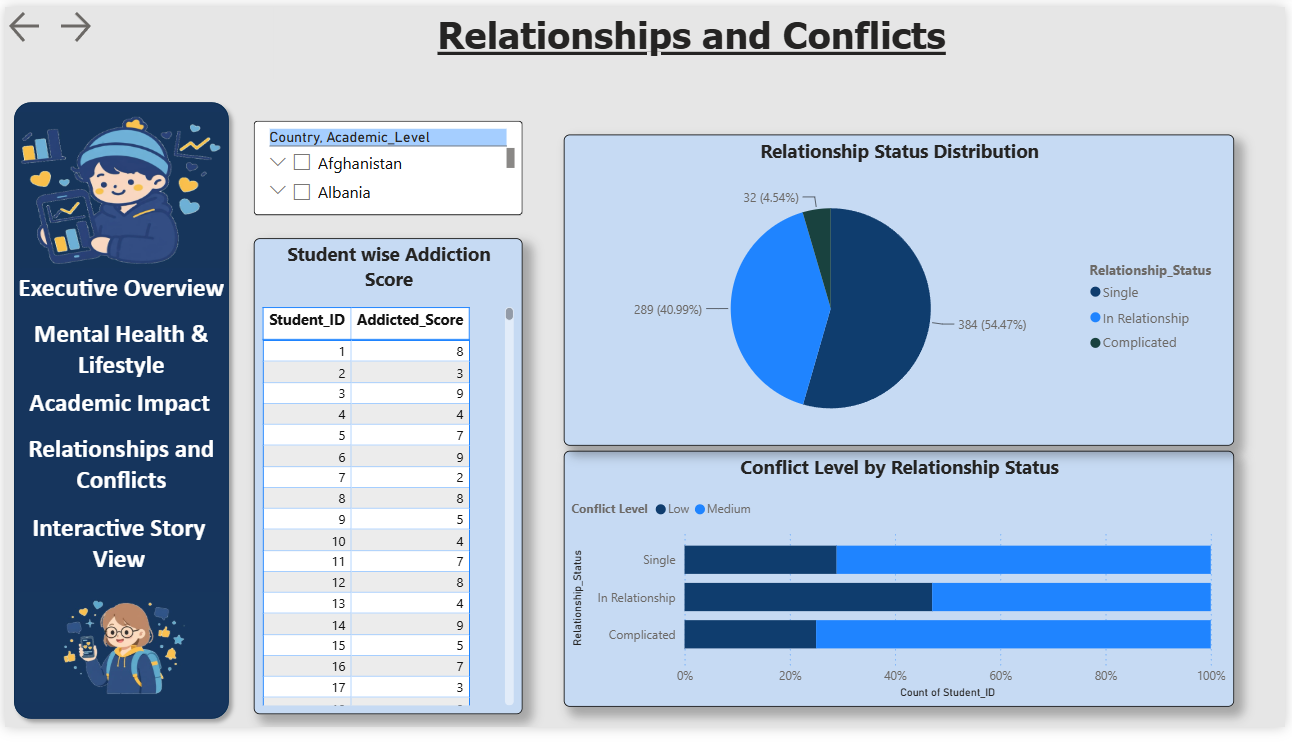

The dashboard page shown, as its layout file describes it:
{"tool":"powerbi","page":{"name":"Relationships and Conflicts","canvas":[1280,720],"ordinal":3},"visuals":[{"type":"textbox","box":[269.1,0,835.8,71.6],"z":0},{"type":"hundredPercentStackedBarChart","title":"Conflict Level by Relationship Status","fields":{"Category":["Student Details.Relationship_Status"],"Series":["Student Details.Conflict Level"],"Y":["CountNonNull(Student Details.Student_ID)"]},"box":[558.6,444.3,670,255.7],"z":1000},{"type":"tableEx","title":"Student wise Addiction Score","fields":{"Values":["Student Details.Student_ID","Student Details.Addicted_Score"]},"box":[248.6,231.4,268.6,475.7],"z":2000},{"type":"pieChart","title":"Relationship Status Distribution","fields":{"Category":["Student Details.Relationship_Status"],"Y":["Student Details.Total Student"]},"box":[558.6,127.1,670,311.4],"z":3000},{"type":"slicer","fields":{"Values":["Student Details.Country","Student Details.Academic_Level"]},"box":[248.6,114.3,268.6,94.3],"z":4000},{"type":"actionButton","box":[0,0,50,40],"z":5000},{"type":"actionButton","box":[50,0,100,40],"z":6000},{"type":"group","id":"g1","title":"Group 1","box":[0,85.7,232.8,634.6],"z":7000},{"type":"group","id":"g2","title":"Group 1","box":[9.7,105,211.1,591.2],"z":8000},{"type":"shape","box":[0,85.7,232.8,634.6],"z":9000,"group":"g1"},{"type":"actionButton","title":"Executive Overview","box":[0,264.7,232.8,35],"z":10000,"group":"g1"},{"type":"image","box":[9.7,105,211.1,156.8],"z":11000,"group":"g2"},{"type":"actionButton","title":"Mental Health & Lifestyle","box":[0,310.5,232.8,70],"z":11000,"group":"g1"},{"type":"actionButton","title":"Academic Impact","box":[0,379.9,229.2,42.1],"z":12000,"group":"g1"},{"type":"image","box":[11.3,585.5,208.7,110.6],"z":12000,"group":"g2"},{"type":"actionButton","title":"Relationships and Conflicts","box":[0,425.9,232.8,70.2],"z":13000,"group":"g1"},{"type":"actionButton","title":"Interactive Story View","box":[0,504,228,68.9],"z":14000,"group":"g1"}]}

Visuals, with their boxes in screenshot pixels (x1, y1, x2, y2), scaled from the page's 1280x720 canvas onto the 1292x746 screenshot:
textbox: [272, 0, 1115, 74]
"Conflict Level by Relationship Status" hundredPercentStackedBarChart: [564, 460, 1240, 725]
"Student wise Addiction Score" tableEx: [251, 240, 522, 733]
"Relationship Status Distribution" pieChart: [564, 132, 1240, 454]
slicer - Student Details.Country x Student Details.Academic_Level: [251, 118, 522, 216]
actionButton: [0, 0, 50, 41]
actionButton: [50, 0, 151, 41]
"Group 1" group: [0, 89, 235, 745]
"Group 1" group: [10, 109, 223, 721]
shape: [0, 89, 235, 745]
"Executive Overview" actionButton: [0, 274, 235, 311]
image: [10, 109, 223, 271]
"Mental Health & Lifestyle" actionButton: [0, 322, 235, 394]
"Academic Impact" actionButton: [0, 394, 231, 437]
image: [11, 607, 222, 721]
"Relationships and Conflicts" actionButton: [0, 441, 235, 514]
"Interactive Story View" actionButton: [0, 522, 230, 594]
